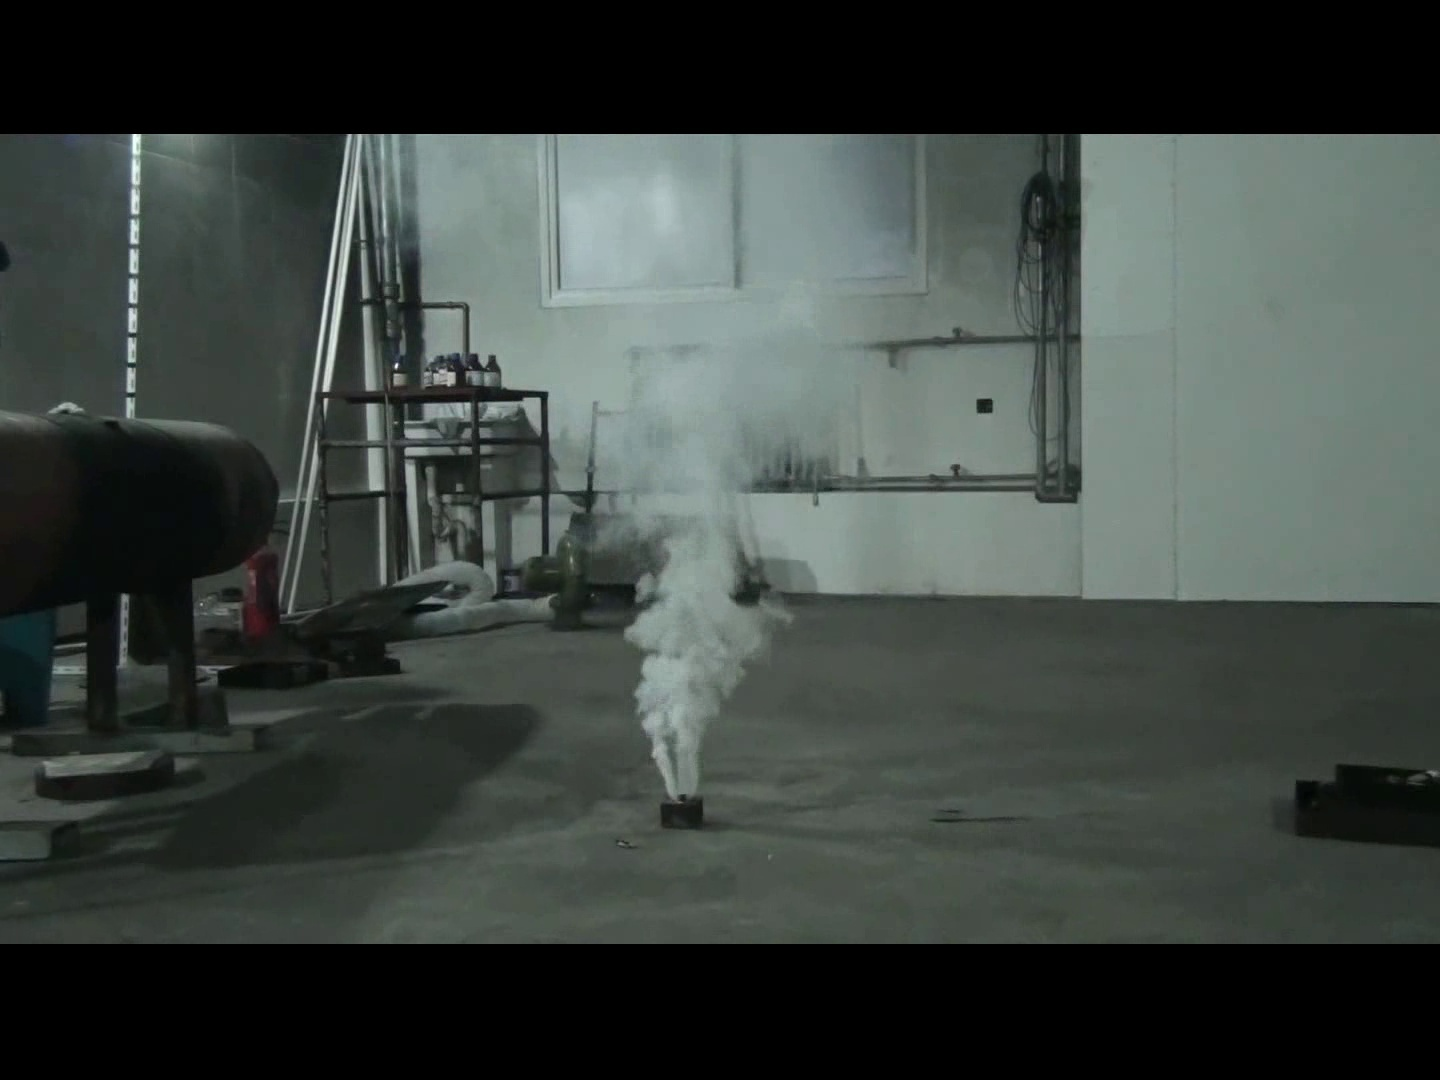smoke: (604, 293, 861, 778)
